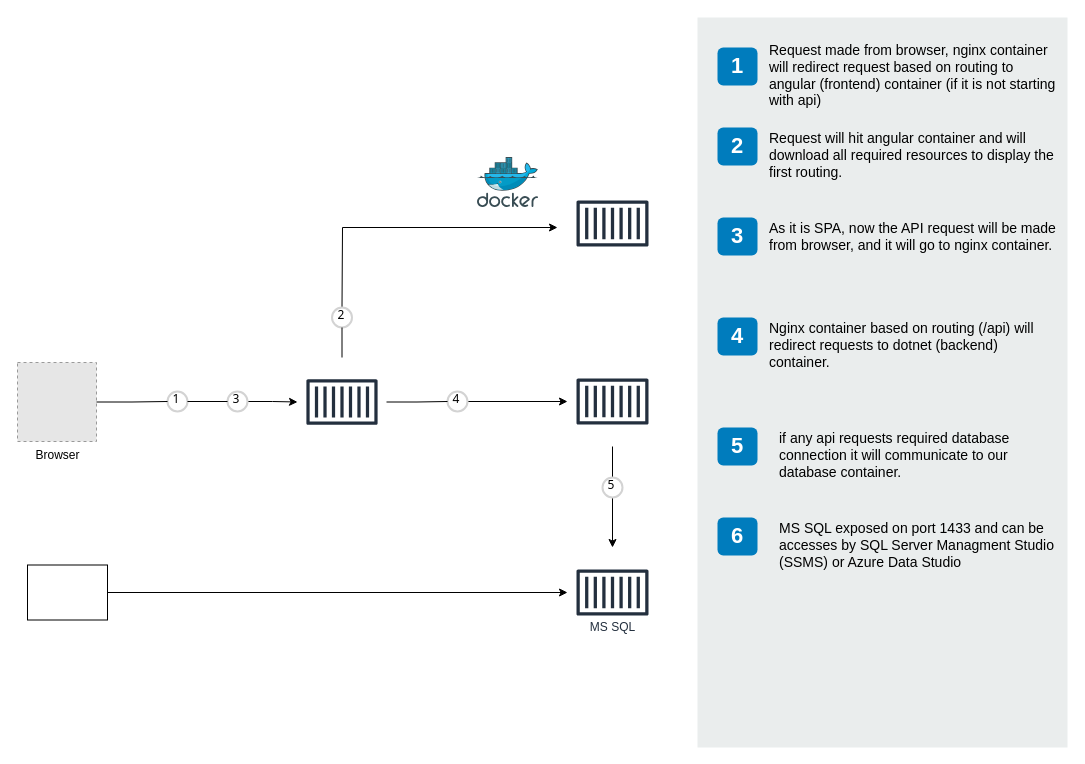
This 1085x764 diagram has some shape labels left out. Grey dashed boxes stand in for pictures. Here are the shapes that lost their labels. From the top down, the centre of each, then its label:
At (x=612, y=223): "Angular".
At (x=341, y=401): "NGINX".
At (x=612, y=401): "dotnet".
At (x=67, y=592): "SSMS or Azure Data Studio".
